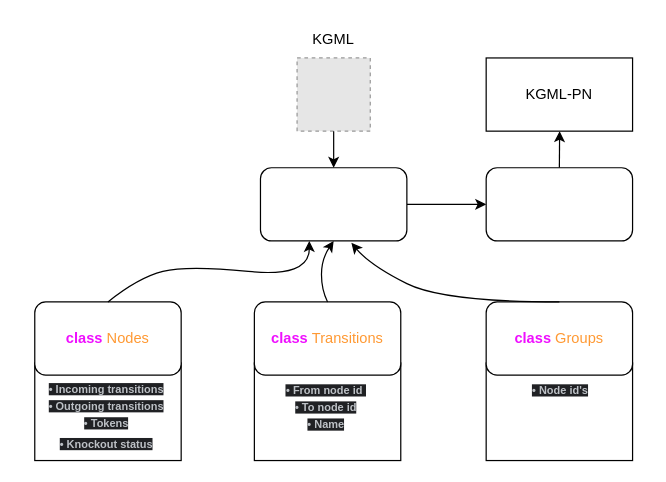
Image size: 666x482. Some labels were removed from this diagram. Grey dashed boxes stand in for pictures. The shapes that lost their labels are listed below. From the top down, each one's centre as x and y in pixels, then its label:
At point (333, 204): "class Pathway".
At point (559, 204): "class UI".
